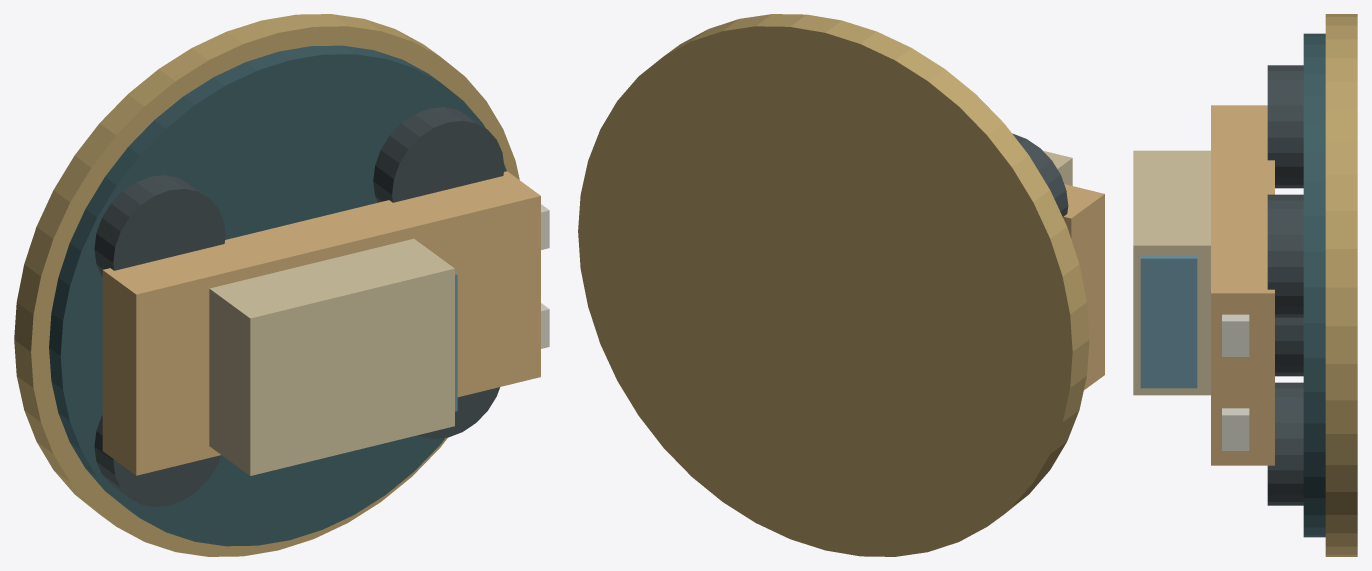
The model's file is gold_car.glb.
3 renders of one model, left to right at view 1: azimuth 30°, elevation 25°; view 2: azimuth 150°, elevation 25°; view 3: azimuth 270°, elevation 25°, orthographic. The views are drawn at different scales.
Visible parts, largest first — view 1: obsidian-plinth, car-chassis, car-cabin, gold-plinth, wheel-0-1, wheel-1-1, wheel-0-0, wheel-1-0; view 2: gold-plinth, car-chassis, wheel-0-1; view 3: car-chassis, gold-plinth, car-cabin, obsidian-plinth, front-window, wheel-0-1, wheel-1-1, wheel-1-0, wheel-0-0, headlight-0, headlight-1.
Boxes of the visible parts, x1,y1,x2,y2 form: obsidian-plinth: (49,45,506,546); car-chassis: (102,171,540,475); car-cabin: (209,238,454,475); gold-plinth: (14,14,519,556); wheel-0-1: (94,175,225,276); wheel-1-1: (373,107,504,202); wheel-0-0: (94,415,221,506); wheel-1-0: (418,387,499,438); gold-plinth: (578,14,1089,556); car-chassis: (1063,184,1104,389); wheel-0-1: (1012,133,1068,217); car-chassis: (1211,105,1274,465); gold-plinth: (1325,14,1357,556); car-cabin: (1133,150,1210,395); obsidian-plinth: (1303,33,1325,537); front-window: (1140,255,1197,388); wheel-0-1: (1267,65,1303,188); wheel-1-1: (1267,194,1303,317); wheel-1-0: (1267,382,1303,505); wheel-0-0: (1275,317,1303,376); headlight-0: (1222,408,1249,450); headlight-1: (1222,314,1249,356).
Size of the model in its own units: 2.2 by 2.2 by 0.91.
